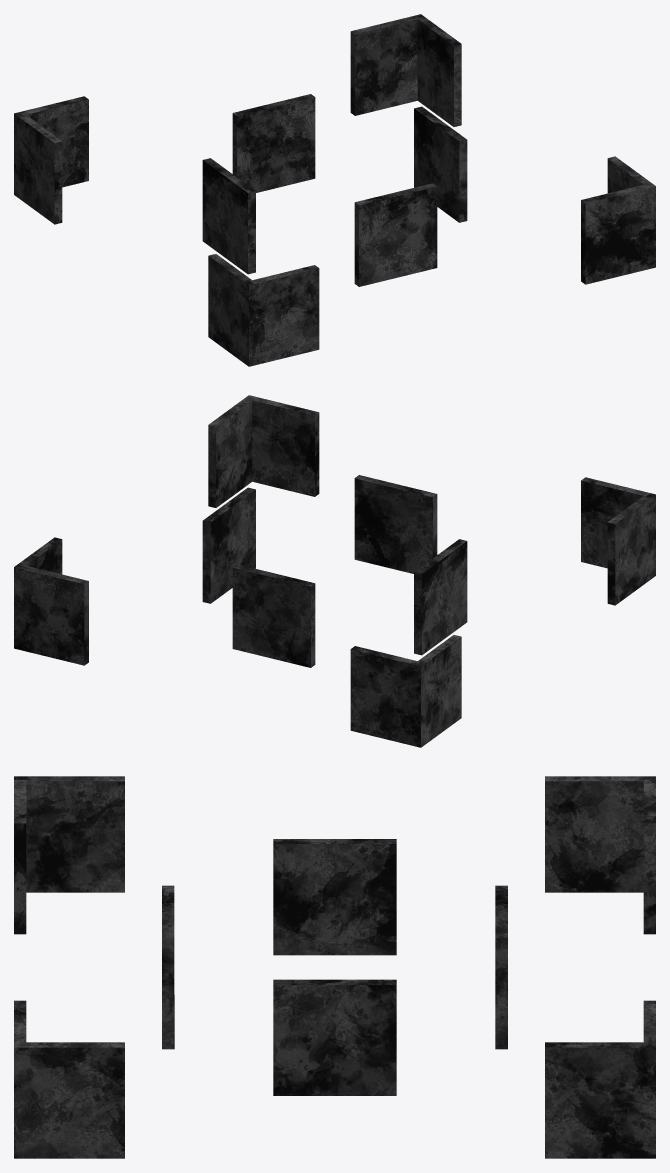
The model's file is inner_walls.obj.
3 views of the same model, one above another, from view 1: azimuth 30°, elevation 25°; view 2: azimuth 150°, elevation 25°; view 3: azimuth 270°, elevation 25° (orthographic). The views are drawn at different scales.
Visible parts, largest first — view 1: Plane.004; view 2: Plane.004; view 3: Plane.004.
Part boxes in pixels (x1,y1,x2,y2): Plane.004: (14, 14, 655, 366); Plane.004: (14, 395, 655, 747); Plane.004: (14, 776, 655, 1158).
Size of the model in its own units: 502 by 95.92 by 502.
